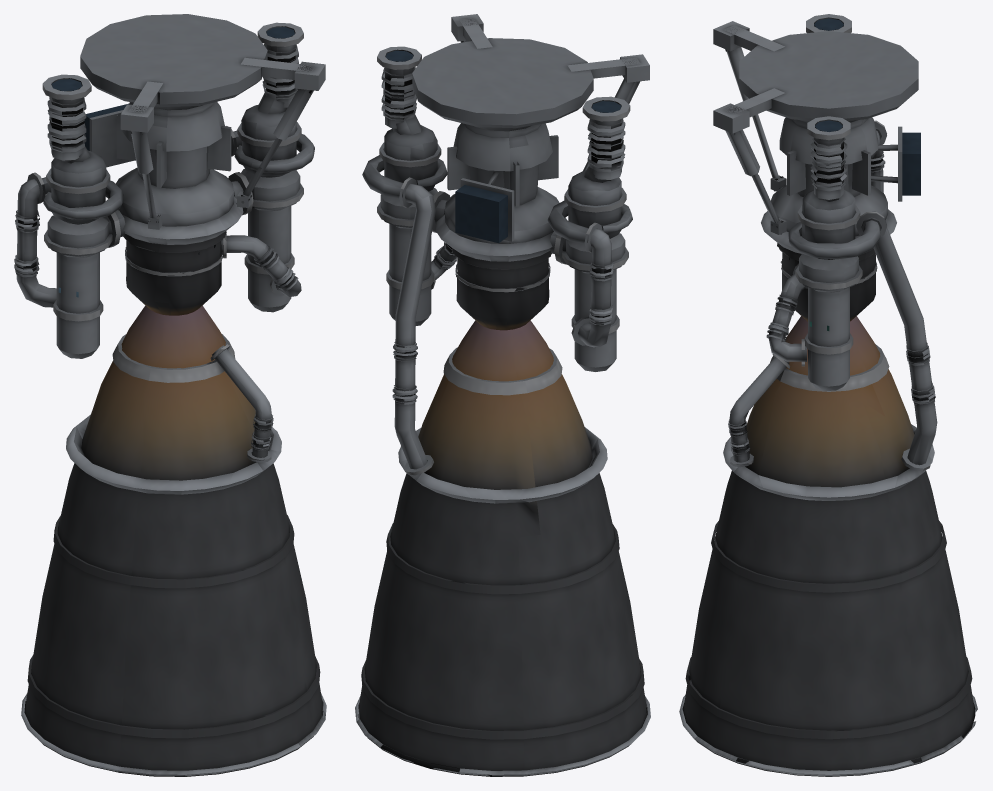
The model's file is eng_methalox_full_flow.glb.
3 renders of one model, left to right at view 1: azimuth 30°, elevation 25°; view 2: azimuth 150°, elevation 25°; view 3: azimuth 270°, elevation 25°, orthographic. The views are drawn at different scales.
Parts seen in each view (by area): view 1: eng_methalox_full_flow_mesh; view 2: eng_methalox_full_flow_mesh; view 3: eng_methalox_full_flow_mesh.
Part boxes in pixels (<box>): eng_methalox_full_flow_mesh: <box>14,14,326,776</box>; eng_methalox_full_flow_mesh: <box>355,14,650,776</box>; eng_methalox_full_flow_mesh: <box>679,14,977,776</box>.
Size of the model in its own units: 1.34 by 3.1 by 1.3.
1 material, 1 textured.
